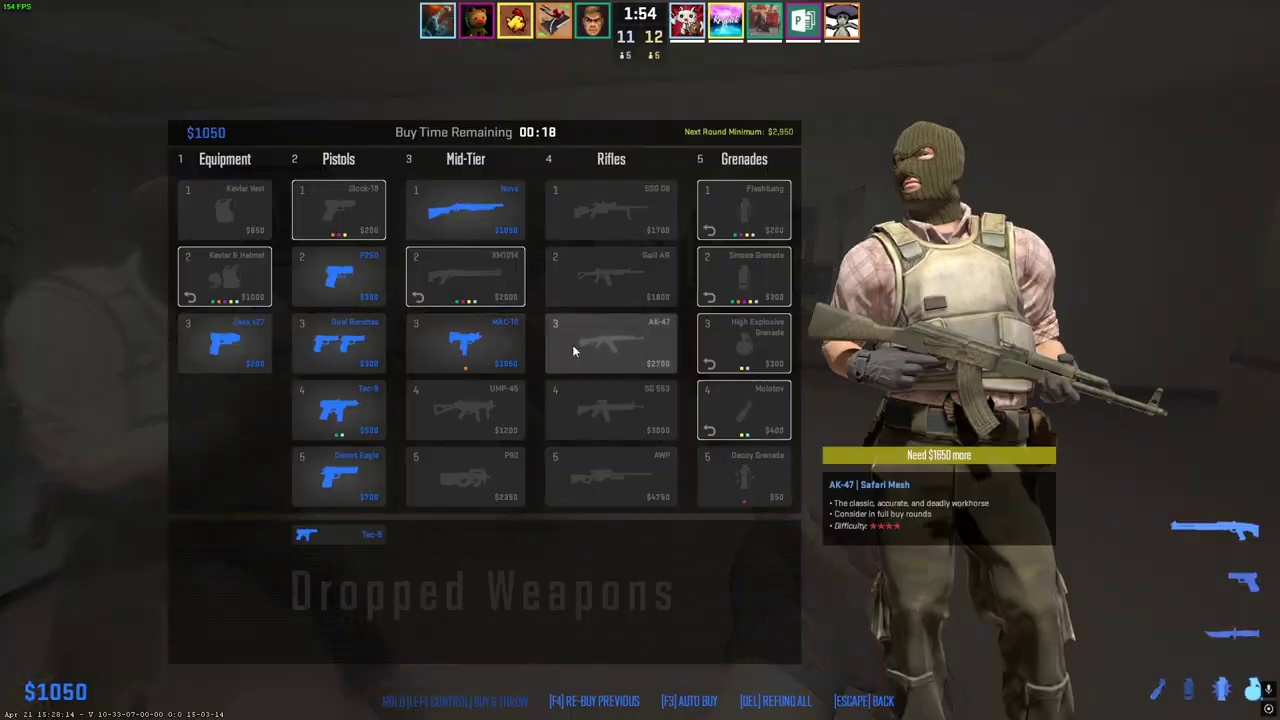Terrorist: (843, 121, 1079, 720)
